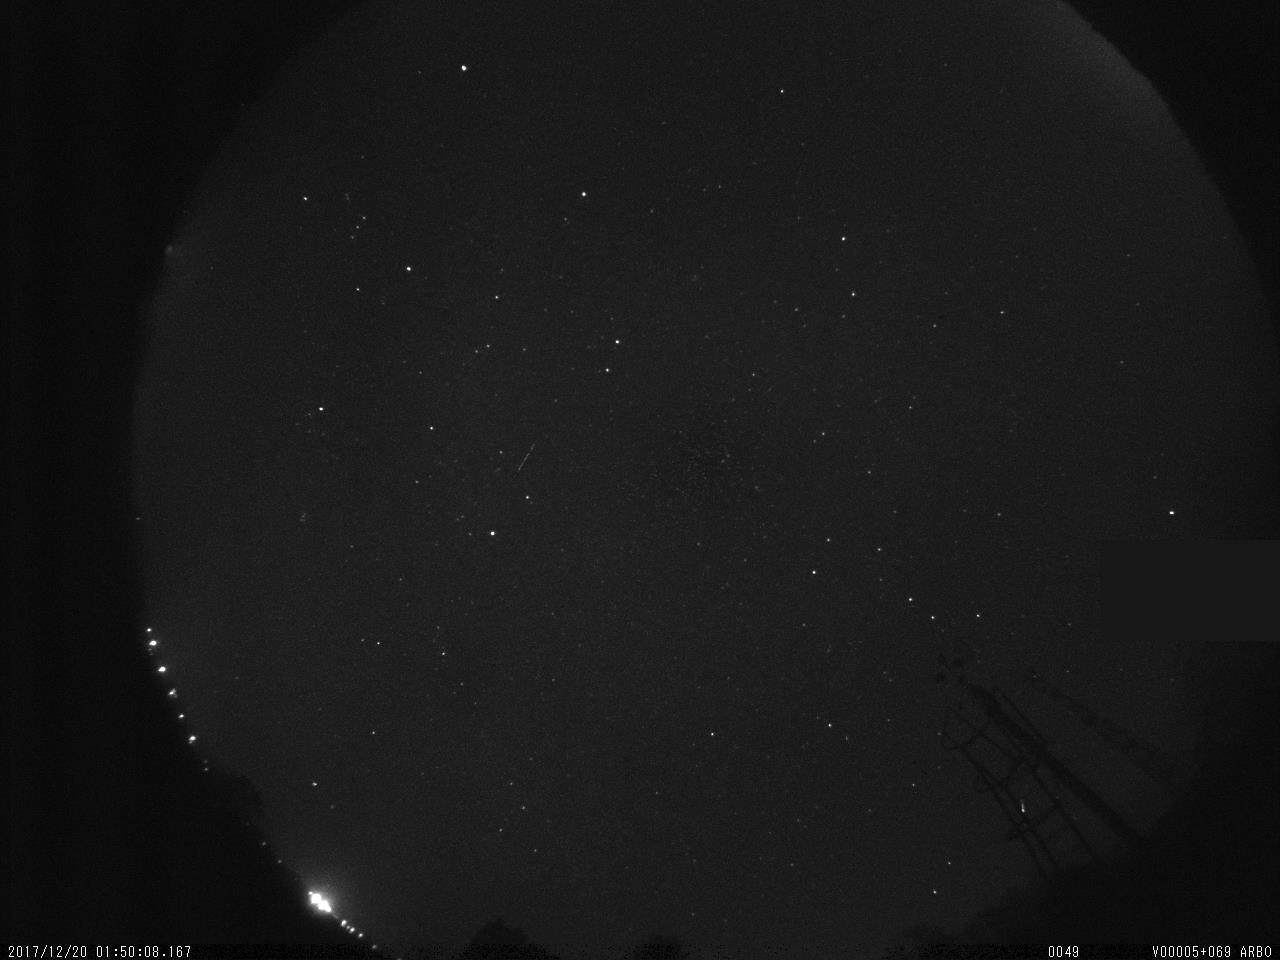meteor: (508, 434, 543, 479)
